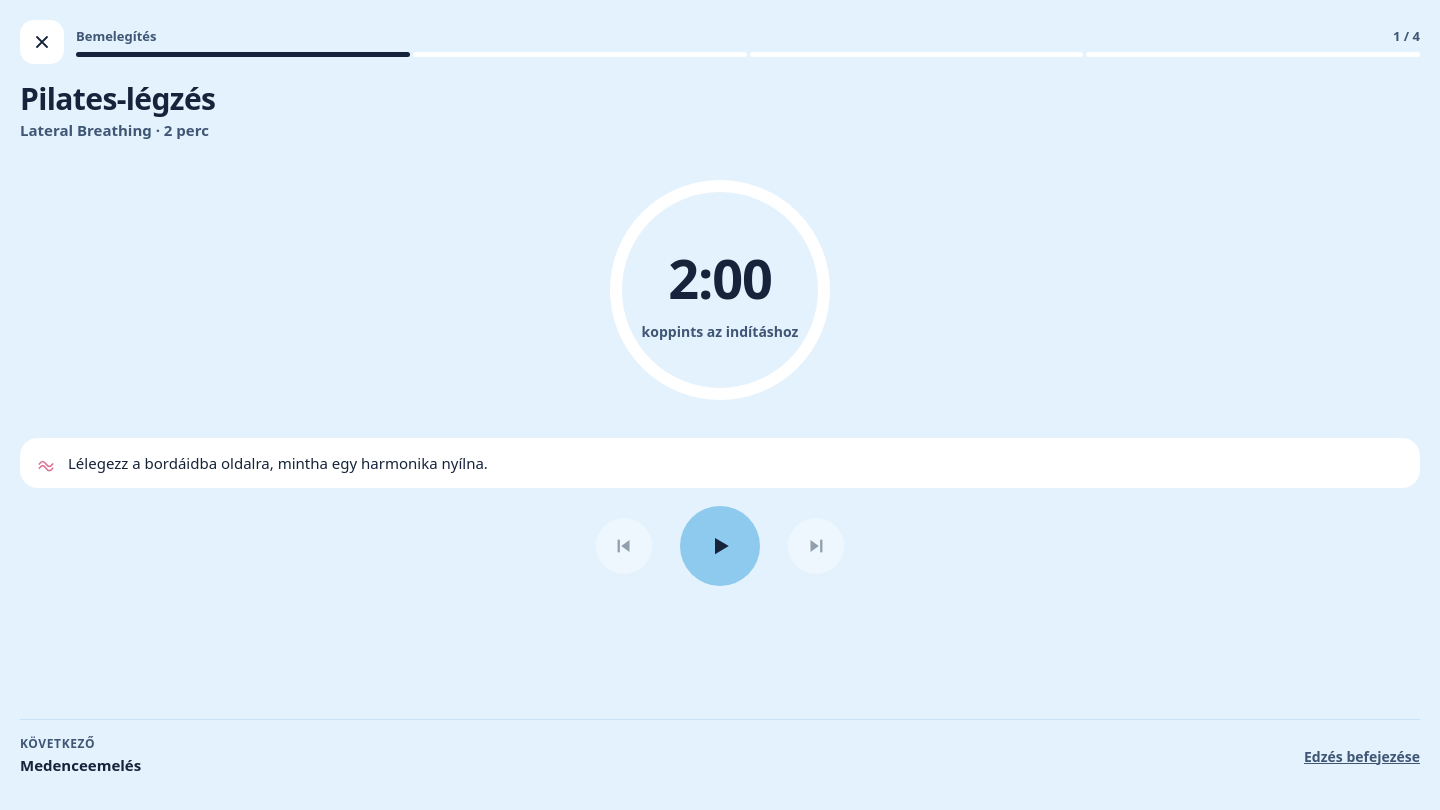
Test: PlayerScreen › starts idle on the first step and begins on tap
The image size is (1440, 810).
Expected: the heading reads "Pilates-légzés", [20,78,215,119]
Click the button named "Indítás". click: x=720, y=546
box: [680,506,760,586]
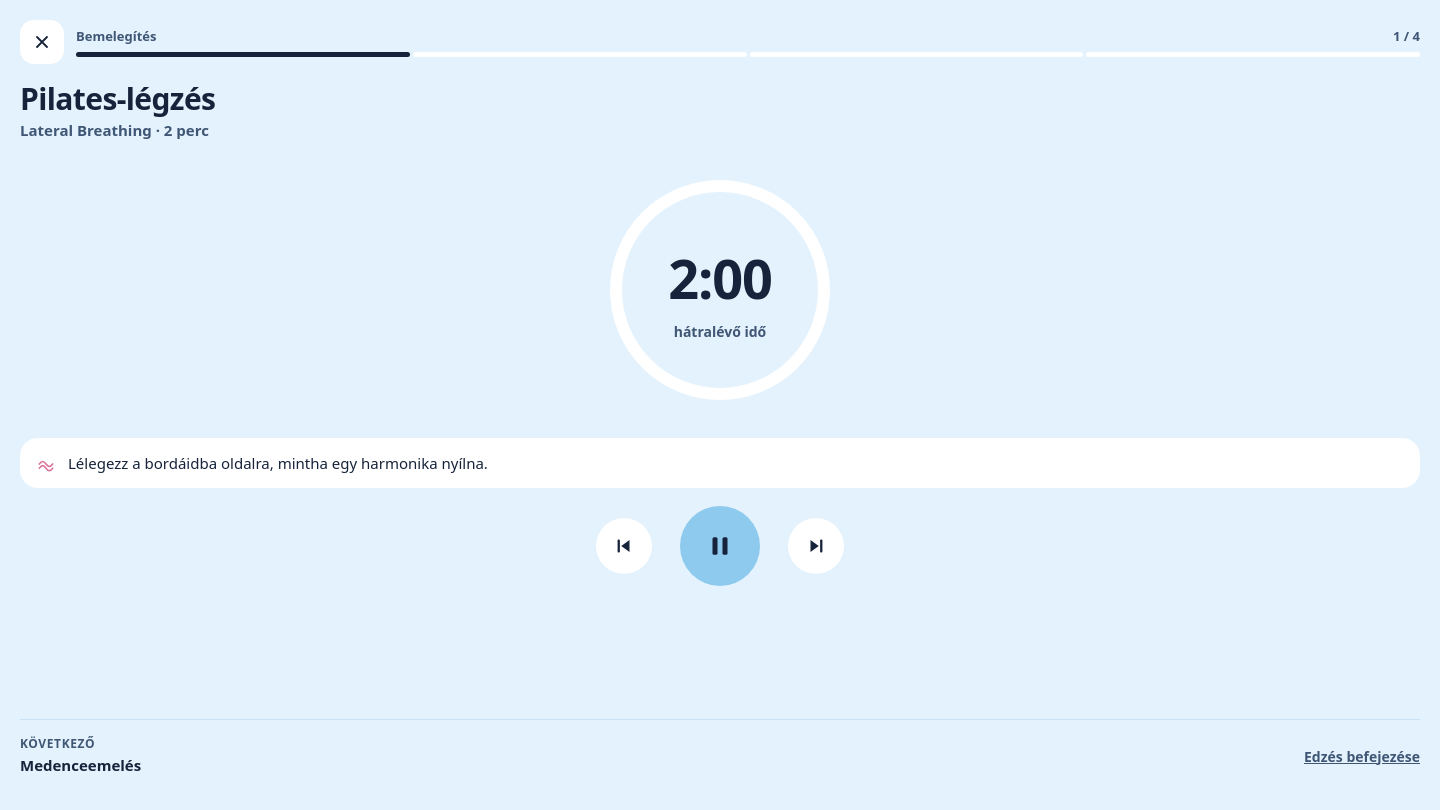
Result: the button named "Szünet" is shown at [680,506,760,586]
